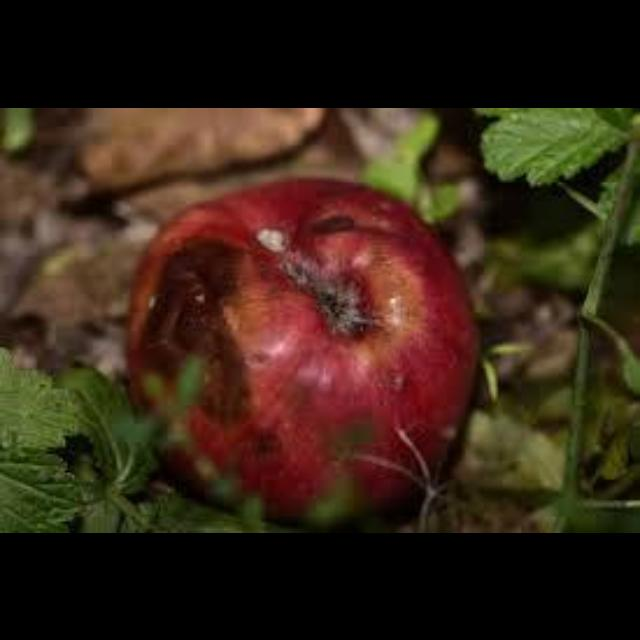apple: (128, 177, 477, 526)
rotten: (136, 238, 259, 428)
